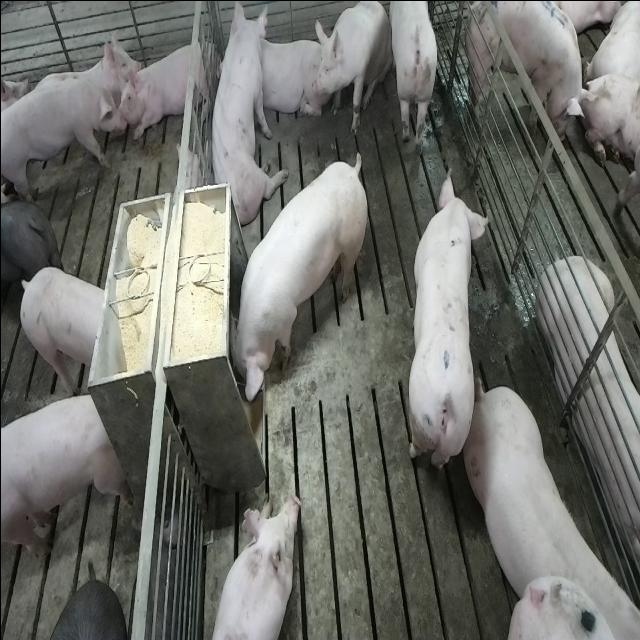Feeding: (221, 148, 363, 404)
Sitting: (205, 4, 282, 230), (309, 1, 391, 137)
Standing: (406, 163, 486, 479), (2, 386, 126, 564), (460, 0, 586, 137), (18, 266, 107, 398), (385, 1, 439, 156), (0, 192, 55, 306)
Sternal_lying: (538, 251, 640, 572), (0, 22, 138, 198), (206, 492, 301, 640), (117, 32, 215, 141), (254, 30, 325, 121)
